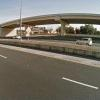Bridge: (4, 6, 97, 33)
